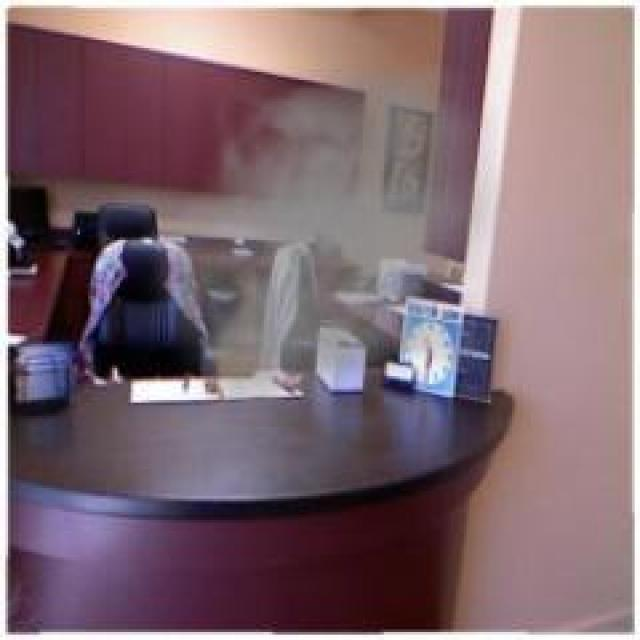Smoke: (138, 62, 498, 410)
